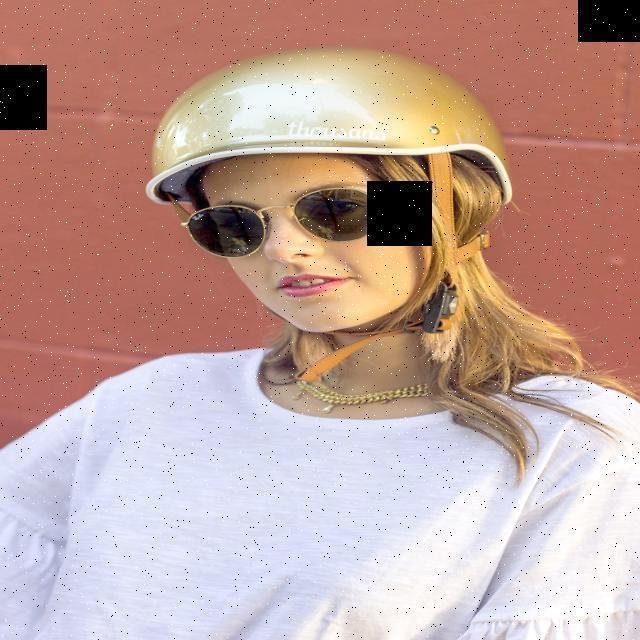helmet: (144, 48, 514, 338)
